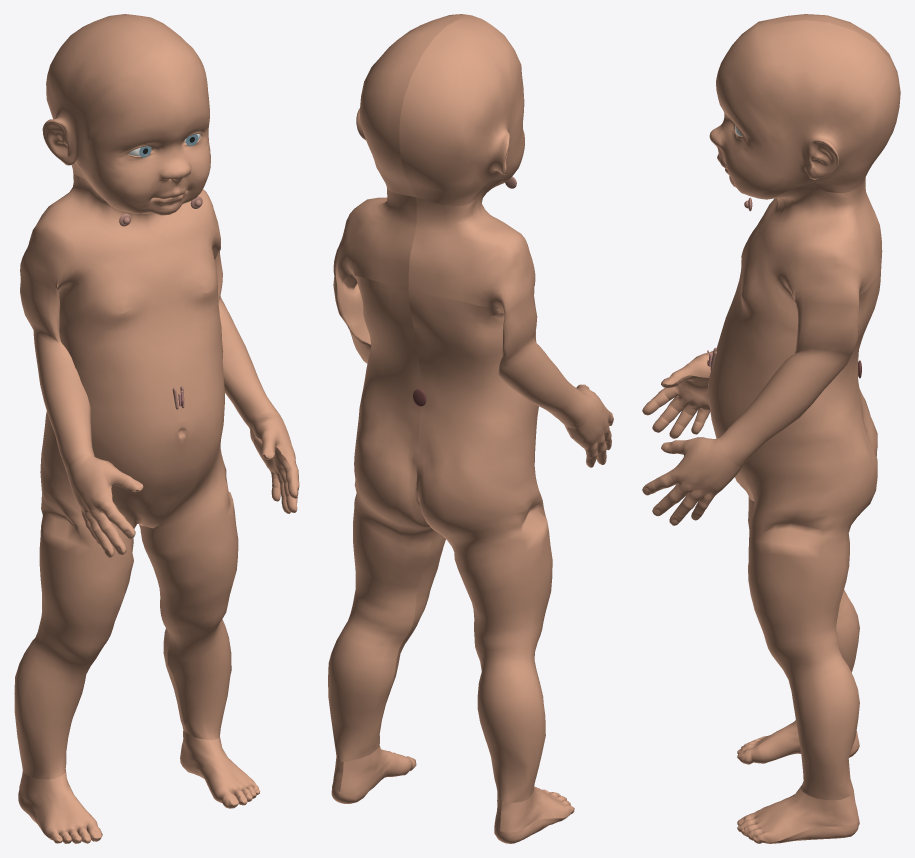
Rendered from body-baby-weiblich-real-v3.glb.
The picture shows the model from 3 angles, left to right: view 1: azimuth 30°, elevation 25°; view 2: azimuth 150°, elevation 25°; view 3: azimuth 270°, elevation 25°; orthographic projection.
Parts seen in each view (by area): view 1: real-human-body; view 2: real-human-body; view 3: real-human-body.
Part boxes in pixels (x1=…): real-human-body: x1=14, y1=14, x2=299, y2=843; real-human-body: x1=328, y1=14, x2=613, y2=843; real-human-body: x1=642, y1=14, x2=900, y2=843.
Bounding box in the file's own units: 0.1926 × 0.68 × 0.2053.
Materials: 8 (1 with a texture image).
